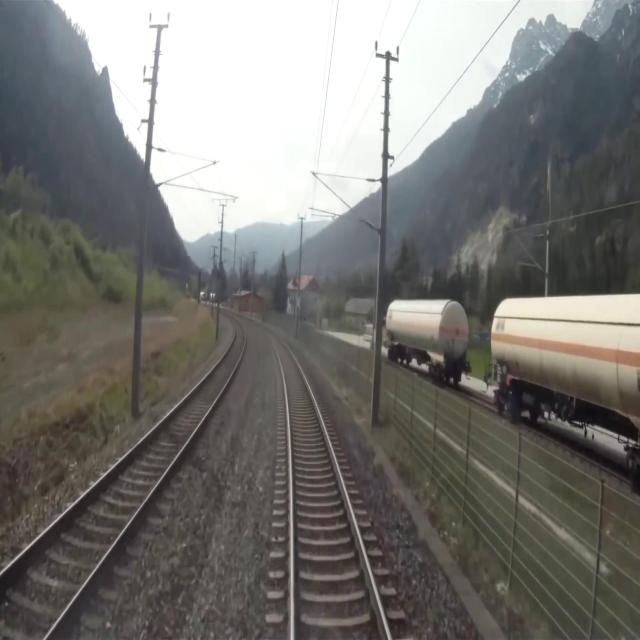rail-track: (0, 320, 243, 639), (264, 328, 388, 639)
